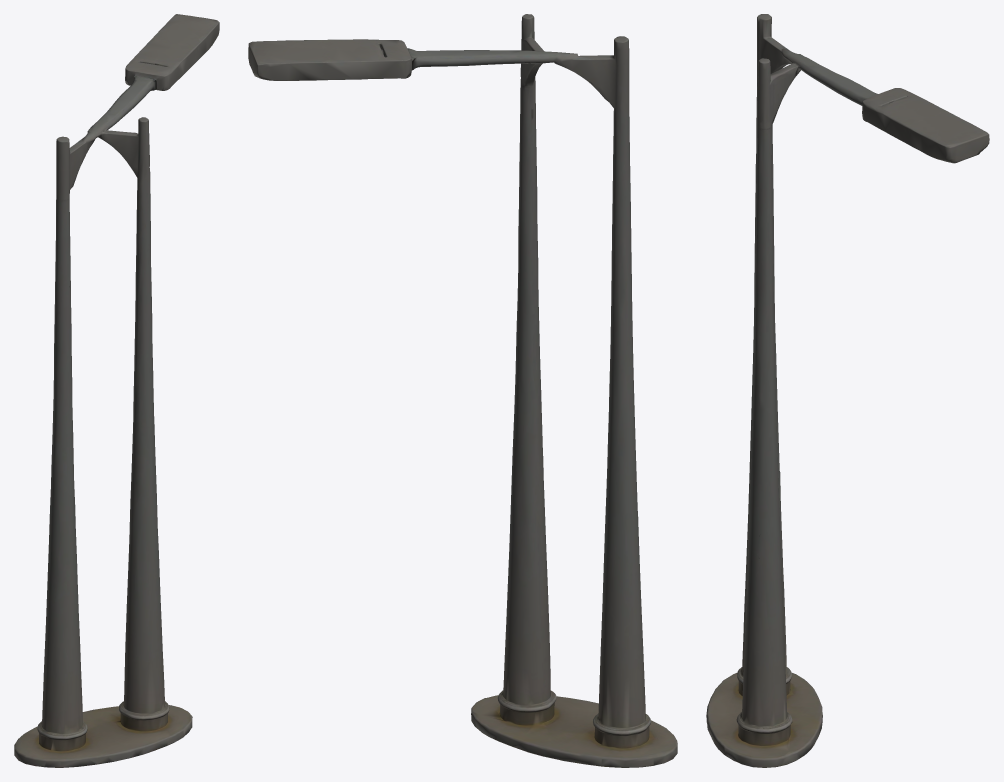
File: light-pole.glb
3 renders of one model, left to right at view 1: azimuth 30°, elevation 25°; view 2: azimuth 150°, elevation 25°; view 3: azimuth 270°, elevation 25°, orthographic. The views are drawn at different scales.
Visible parts, largest first — view 1: tripo_node_9802f7c4-3228-41c5-b292-8baaf43d97d7; view 2: tripo_node_9802f7c4-3228-41c5-b292-8baaf43d97d7; view 3: tripo_node_9802f7c4-3228-41c5-b292-8baaf43d97d7.
Part boxes in pixels (box(x1,y1,x2,y2)): tripo_node_9802f7c4-3228-41c5-b292-8baaf43d97d7: box(14, 14, 219, 767); tripo_node_9802f7c4-3228-41c5-b292-8baaf43d97d7: box(248, 14, 677, 767); tripo_node_9802f7c4-3228-41c5-b292-8baaf43d97d7: box(706, 14, 989, 767).
Bounding box in the file's own units: 0.4859 × 1 × 0.3753.
Materials: 1 (1 with a texture image).
